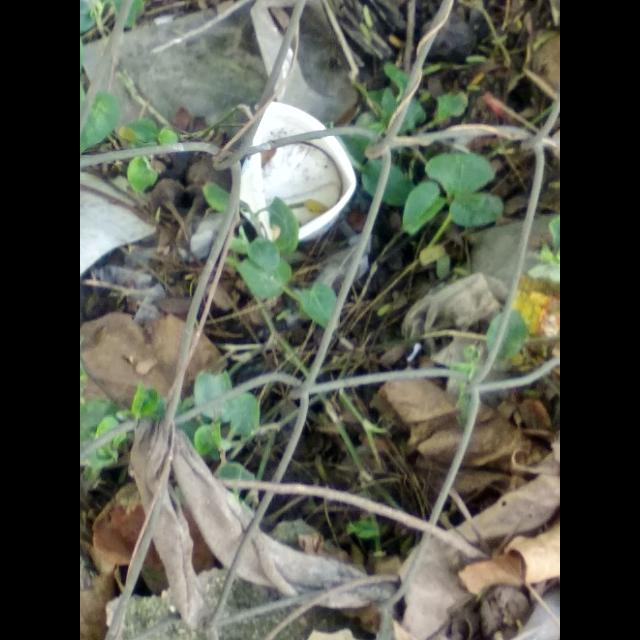trash: (81, 0, 559, 640), (80, 1, 360, 279), (237, 100, 357, 246)
